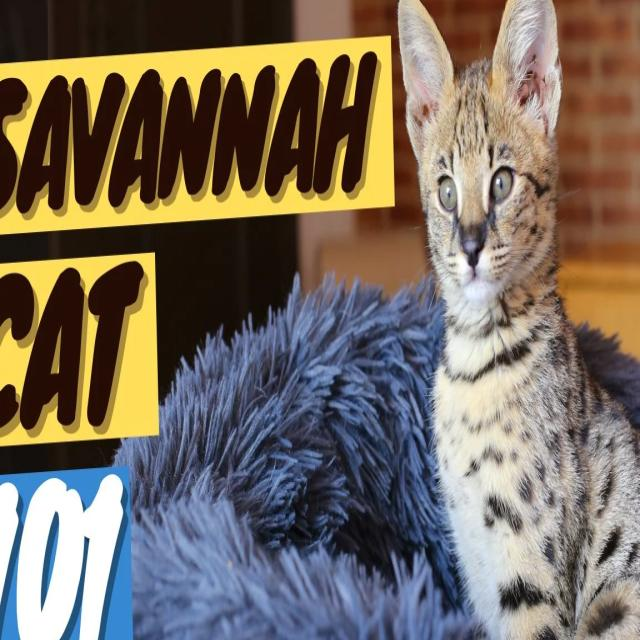Savannah: (394, 0, 640, 640)
